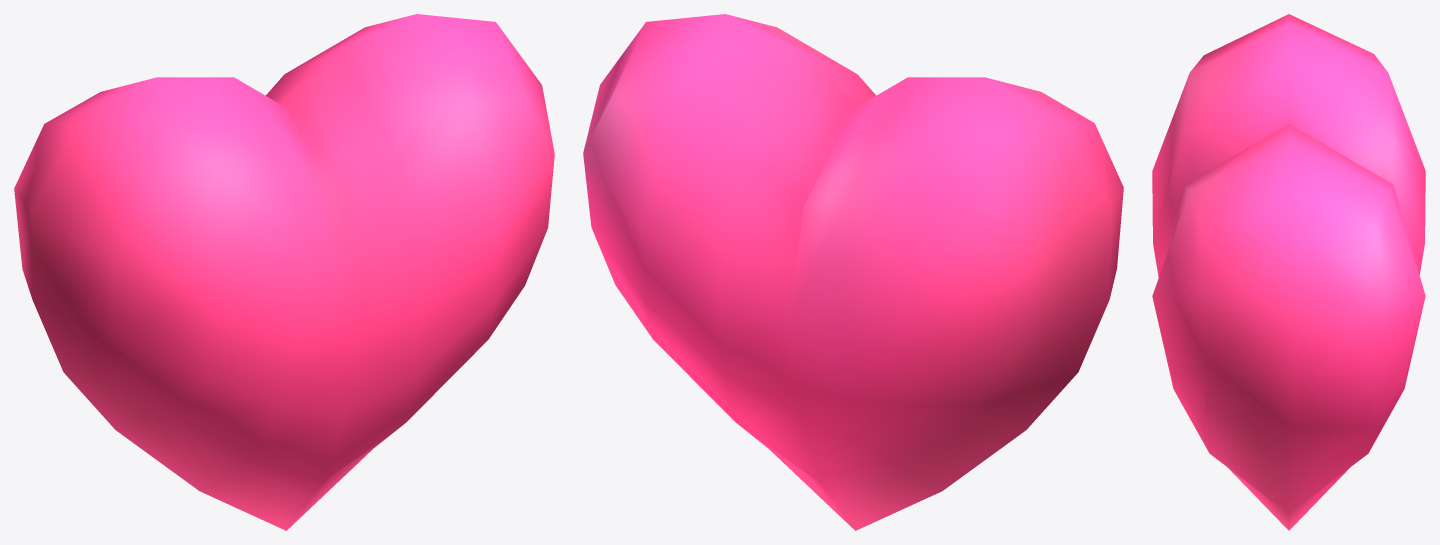
Rendered from obj_toy05.gltf.
The picture shows the model from 3 angles, left to right: view 1: azimuth 30°, elevation 25°; view 2: azimuth 150°, elevation 25°; view 3: azimuth 270°, elevation 25°; orthographic projection. The views are drawn at different scales.
Parts seen in each view (by area): view 1: obj_toy05; view 2: obj_toy05; view 3: obj_toy05.
Boxes of the visible parts, left/top/right/bottom form: obj_toy05: left=14, top=14, right=554, bottom=530; obj_toy05: left=583, top=14, right=1123, bottom=530; obj_toy05: left=1152, top=14, right=1425, bottom=530.
Size of the model in its own units: 0.4871 by 0.442 by 0.2446.
1 material, 1 textured.
